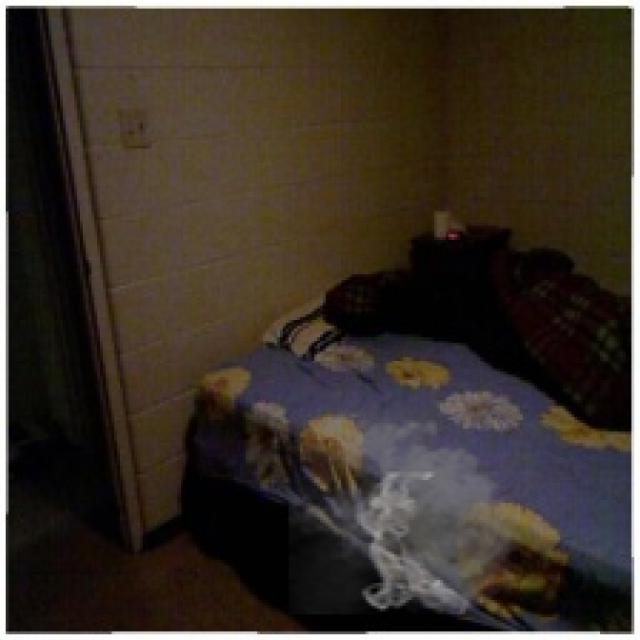smoke: (289, 406, 534, 617)
